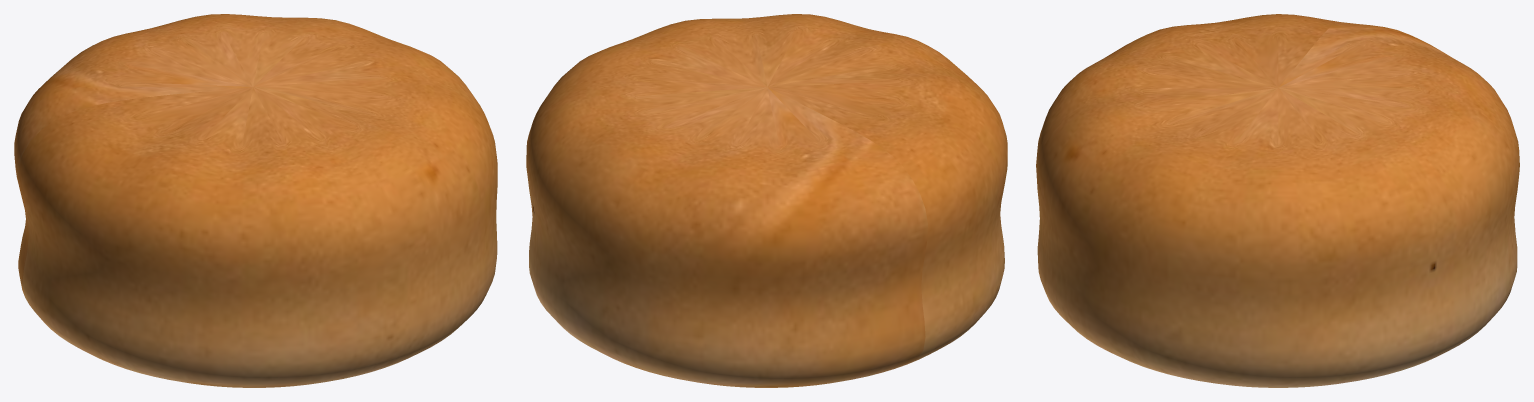
Rendered from bun.fbx.
3 renders of one model, left to right at view 1: azimuth 30°, elevation 25°; view 2: azimuth 150°, elevation 25°; view 3: azimuth 270°, elevation 25°, orthographic.
Parts seen in each view (by area): view 1: Torus.002; view 2: Torus.002; view 3: Torus.002.
Boxes of the visible parts, left/top/right/bottom form: Torus.002: left=14, top=14, right=497, bottom=387; Torus.002: left=526, top=14, right=1007, bottom=387; Torus.002: left=1036, top=14, right=1519, bottom=387.
Size of the model in its own units: 13.03 by 6.98 by 13.06.
Materials: 1 (1 with a texture image).
